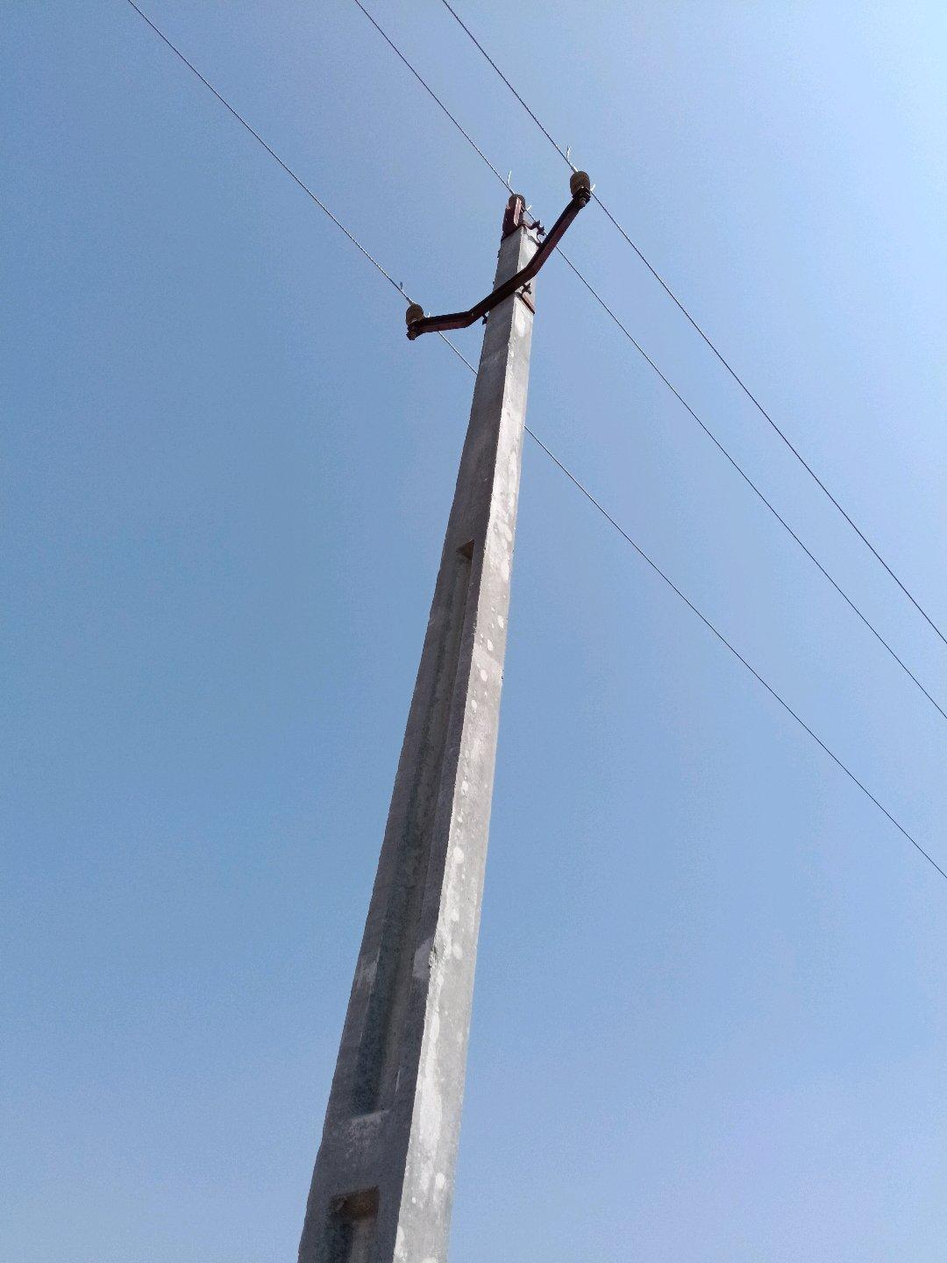{"0" "insulator", "1" "pole", "2" "crossarm", "3" "conductor", "4" "street_: (297, 170, 592, 1262), (943, 0, 946, 104), (457, 0, 459, 9), (478, 69, 480, 75), (478, 52, 479, 56)
